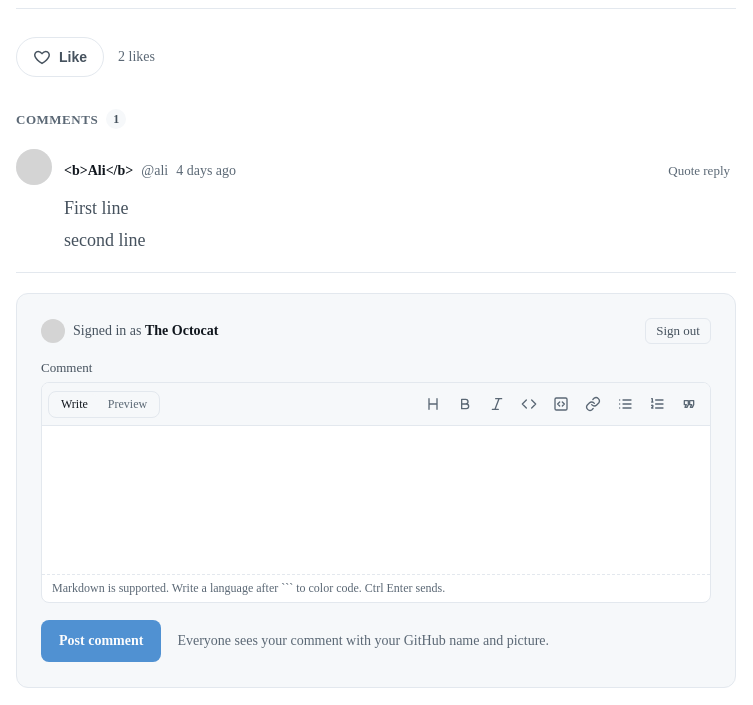
PostReactions › turns the button back into the sign-in link when the session has ended
Click the button "Like" at (60, 57), box [16,37,104,77]
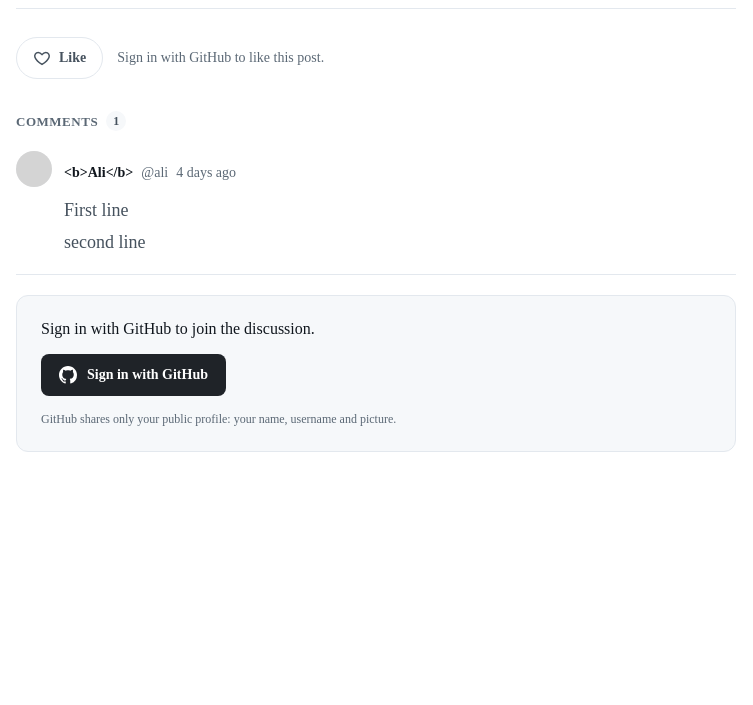
Check: the text "Sign in with GitHub to like this post." is shown, box [117,50,324,66]
